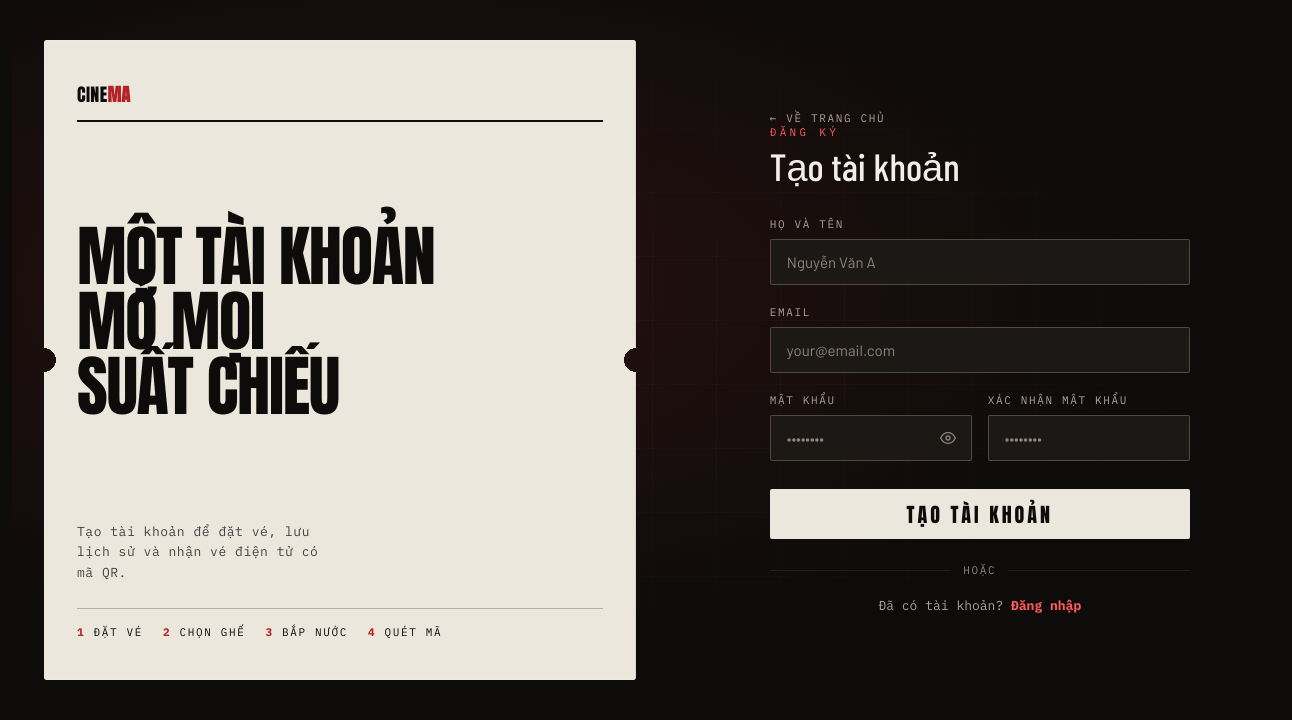
Test: Register › đăng ký thành công thì gửi đúng thông tin rồi quay lại nơi định đến
Check: the button "Tạo tài khoản" is shown, box [770, 489, 1190, 539]
Type "Người Mới" into the field labelled "Họ và tên" at (980, 262), box [770, 239, 1190, 285]
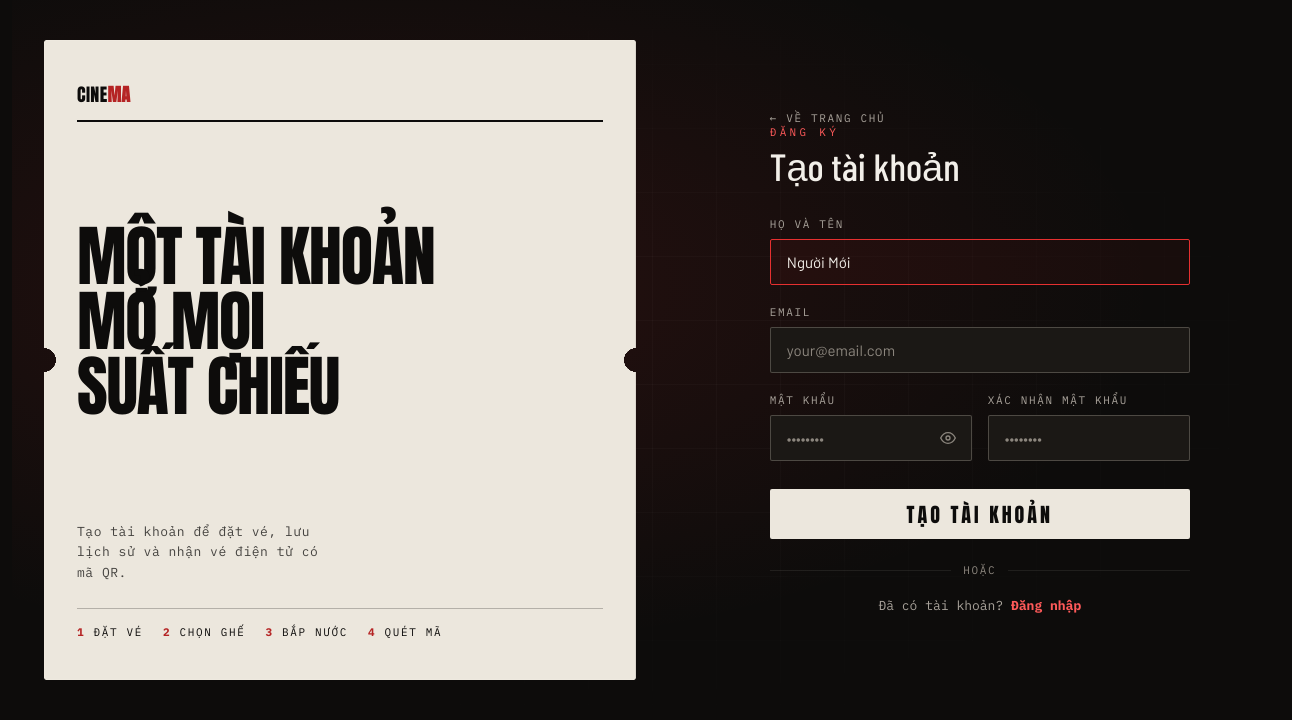
Type "moi@cinema.vn" into the field labelled "Email" at (980, 350), box [770, 327, 1190, 373]
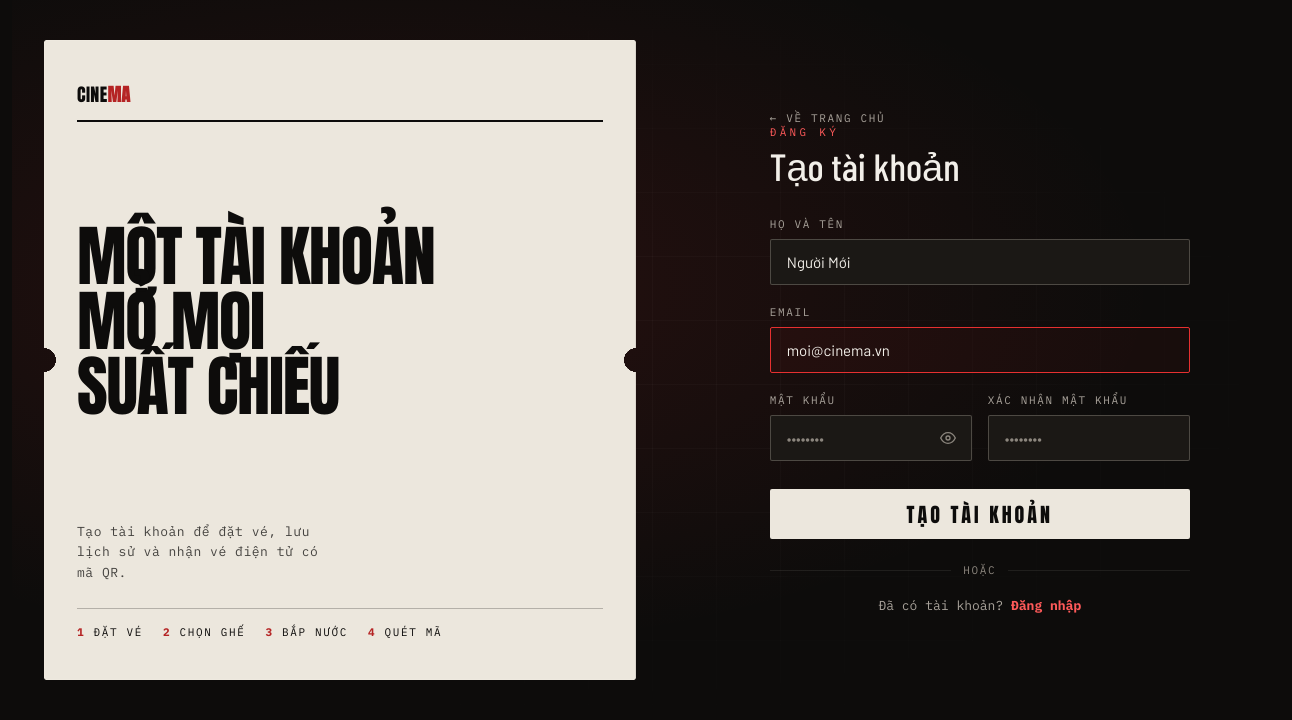
Type "123456" into the password field labelled "Mật khẩu" at (871, 438), box [770, 415, 972, 461]
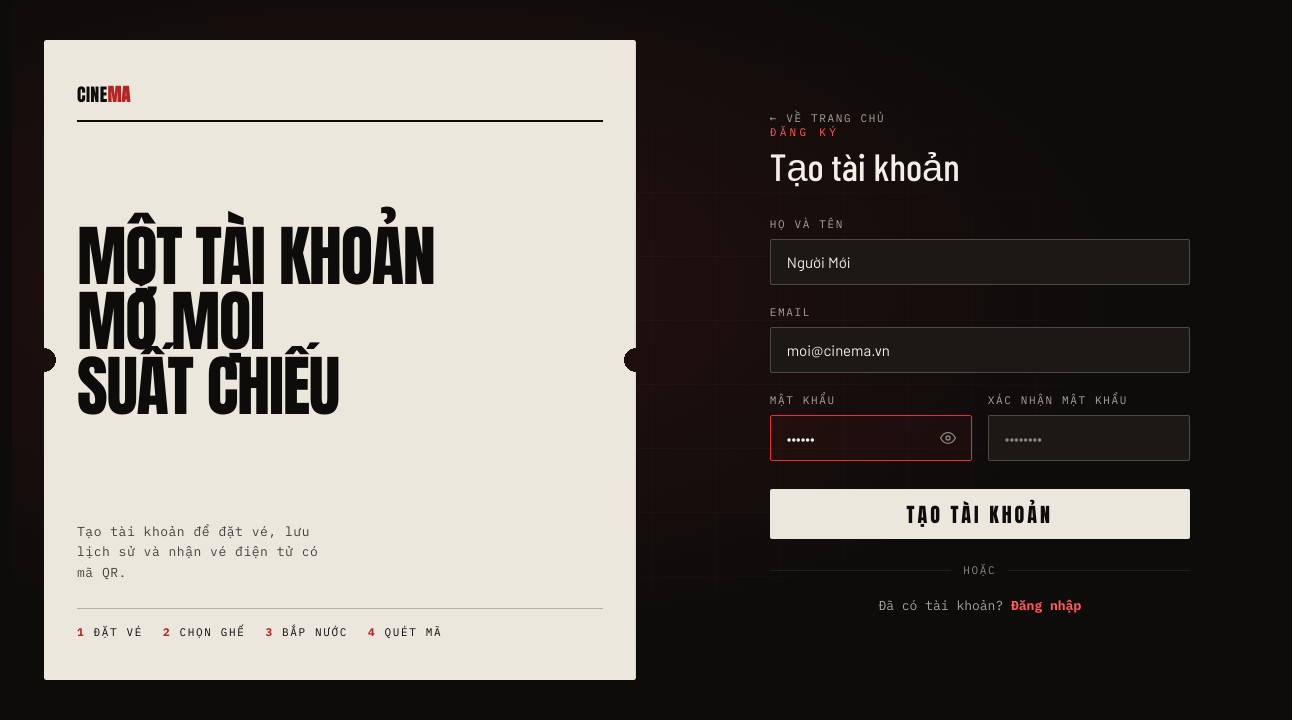
Type "123456" into the password field labelled "Xác nhận mật khẩu" at (1089, 438), box [988, 415, 1190, 461]
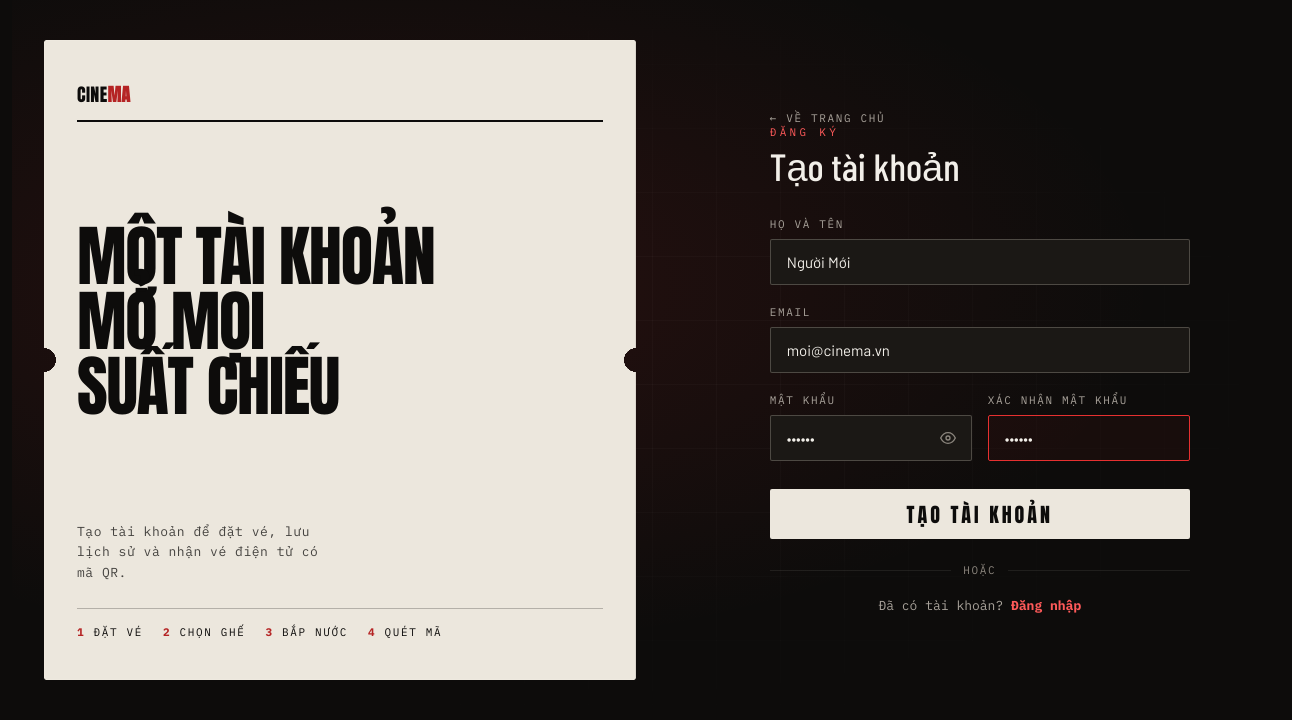
Click the button "Tạo tài khoản" at (980, 514), box [770, 489, 1190, 539]
(page scrolled)
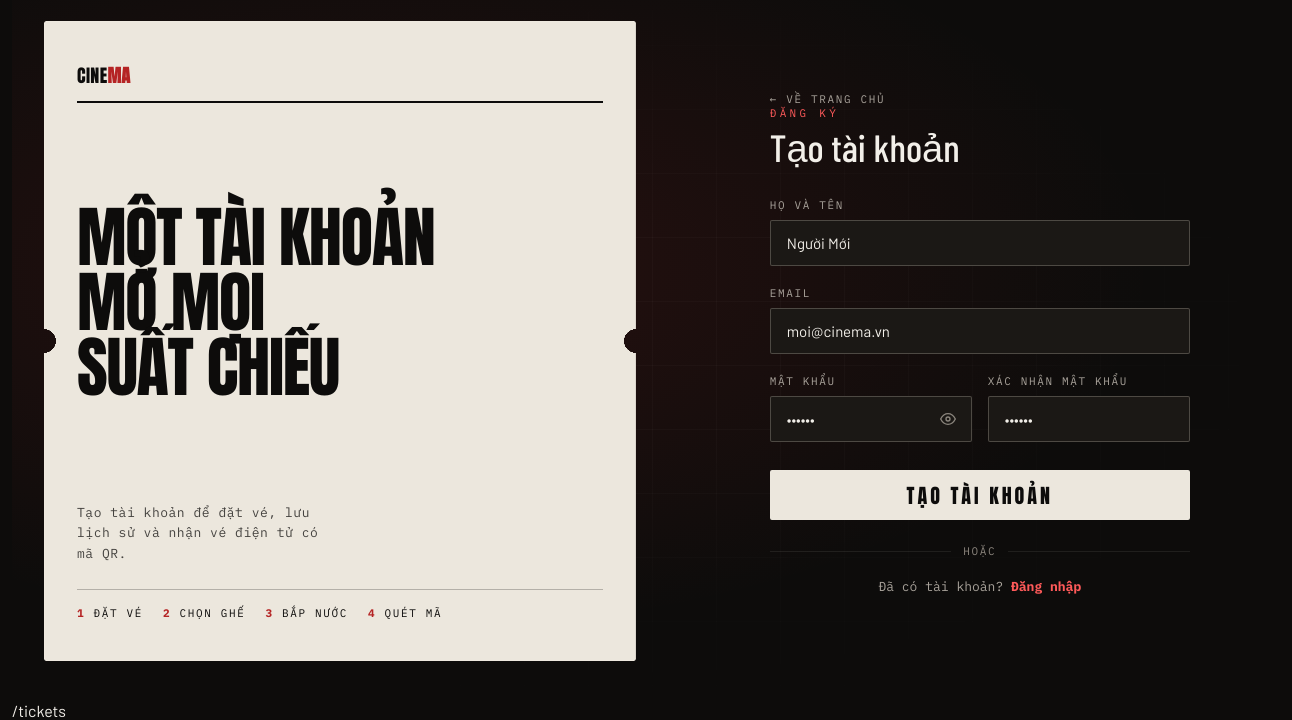
Check: the text with test id "path" reads "/tickets", box [12, 701, 66, 719]
